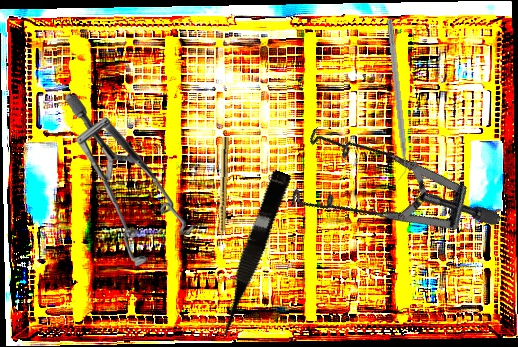Chopper: (377, 18, 411, 183)
Handpiece: (216, 136, 229, 247)
Micro Scissor: (208, 167, 293, 343)
Speculum: (263, 76, 503, 318), (60, 94, 198, 267)
